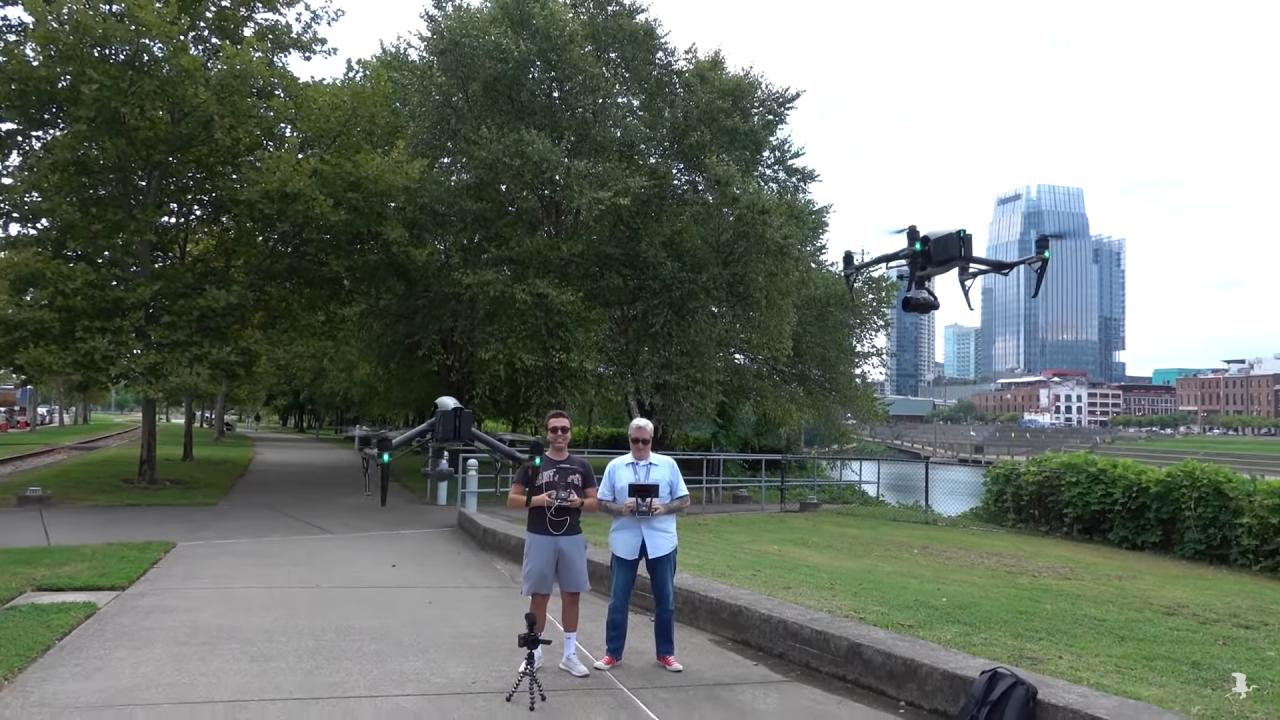Drone: (330, 380, 574, 516), (823, 211, 1097, 332)
